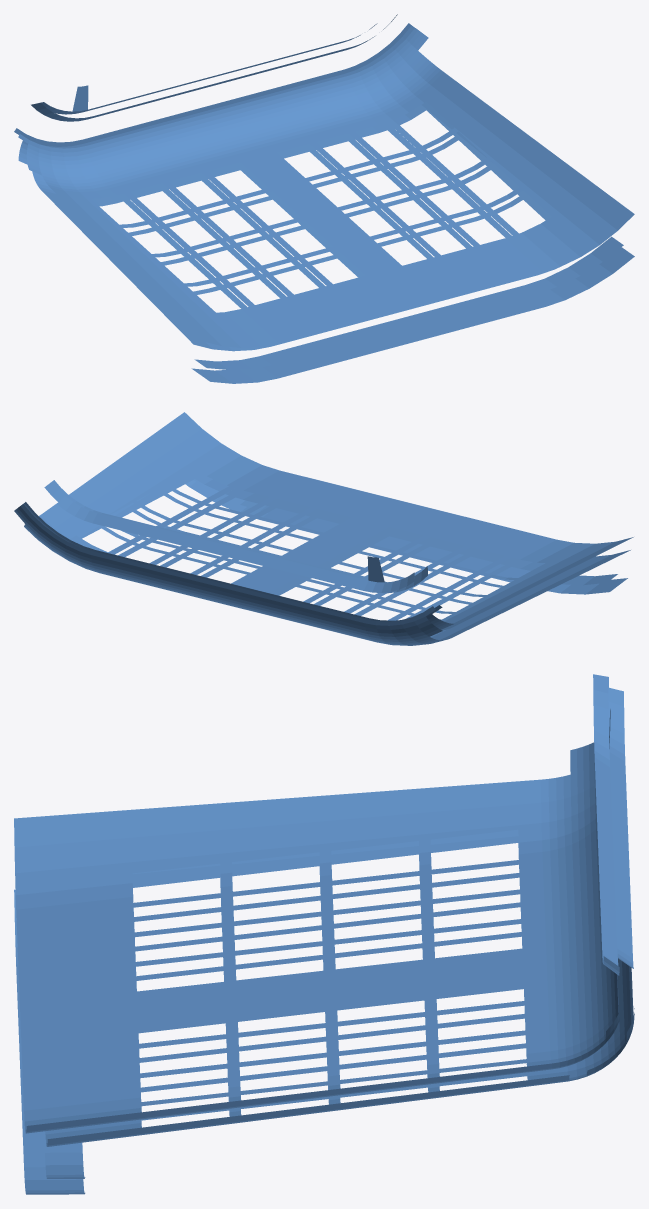
Rendered from small_basket_wall.dae.
The picture shows the model from 3 angles, top to bottom: view 1: azimuth 30°, elevation 25°; view 2: azimuth 150°, elevation 25°; view 3: azimuth 270°, elevation 25°; orthographic projection. The views are drawn at different scales.
Parts seen in each view (by area): view 1: skp973C (×6); view 2: skp973C (×6); view 3: skp973C (×6).
Part boxes in pixels (left/top/right/bottom): skp973C (×6): left=14, top=14, right=634, bottom=383; skp973C (×6): left=14, top=412, right=633, bottom=645; skp973C (×6): left=14, top=674, right=634, bottom=1194.
Bounding box in the file's own units: 13.47 × 4.59 × 10.31.
